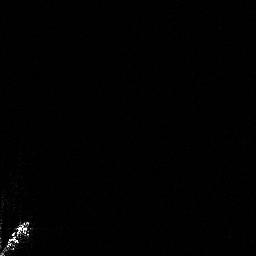ship: (1, 215, 35, 256)
